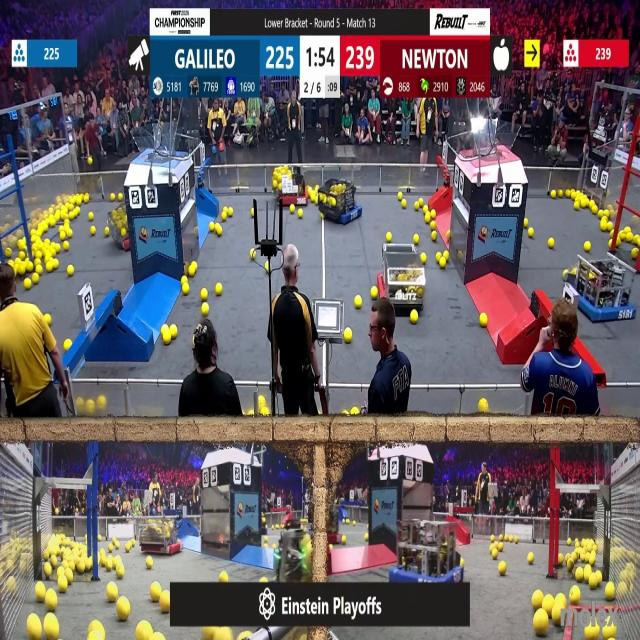ball_ground: (536, 612, 550, 638), (116, 598, 129, 621), (158, 590, 170, 611), (44, 592, 56, 612), (137, 623, 151, 640), (150, 584, 160, 603), (552, 607, 562, 626), (107, 585, 117, 603), (570, 588, 580, 605), (532, 593, 541, 609), (36, 586, 45, 602), (602, 628, 614, 640), (590, 574, 600, 588), (605, 586, 613, 602), (574, 568, 583, 582), (60, 579, 68, 594), (344, 330, 352, 344), (480, 398, 488, 412), (87, 398, 95, 412), (98, 396, 107, 408), (115, 566, 124, 578), (218, 571, 228, 581), (202, 304, 210, 316), (164, 334, 172, 346), (498, 562, 506, 574), (43, 564, 51, 576), (64, 340, 72, 352), (412, 311, 419, 324), (188, 264, 195, 277), (215, 283, 222, 295), (355, 295, 362, 307), (481, 314, 488, 326), (146, 557, 153, 569), (171, 325, 178, 337), (258, 395, 265, 407), (25, 279, 32, 290), (32, 274, 39, 285), (600, 219, 607, 230), (370, 286, 376, 298), (202, 288, 208, 300), (68, 266, 74, 278), (632, 248, 638, 260), (44, 314, 50, 326), (585, 242, 592, 252), (414, 235, 421, 245), (54, 261, 61, 271), (415, 201, 422, 211), (567, 188, 574, 198), (99, 557, 106, 567), (439, 260, 445, 271), (28, 263, 34, 274), (107, 559, 113, 570), (88, 559, 94, 570), (351, 408, 359, 416), (420, 253, 427, 262), (386, 233, 392, 243), (182, 284, 188, 294), (547, 238, 553, 248), (528, 553, 533, 565), (492, 550, 498, 560), (528, 229, 534, 239), (67, 230, 73, 240), (524, 218, 530, 228), (18, 266, 24, 276), (592, 205, 598, 215), (573, 201, 579, 211), (558, 555, 564, 565), (436, 252, 442, 262), (50, 246, 56, 256), (265, 410, 272, 418), (36, 266, 42, 275), (61, 232, 67, 241), (551, 189, 557, 198), (114, 540, 120, 549), (220, 212, 226, 221), (634, 235, 640, 244), (216, 225, 221, 235), (46, 264, 51, 274), (343, 538, 348, 548), (430, 210, 435, 220), (35, 257, 42, 264), (444, 251, 450, 259), (117, 192, 123, 200), (108, 543, 114, 551), (18, 252, 24, 260), (74, 208, 80, 216), (558, 189, 564, 197), (396, 191, 402, 199), (92, 225, 97, 234), (64, 242, 69, 251), (297, 209, 302, 218), (431, 233, 436, 242), (425, 214, 430, 223), (607, 240, 612, 249), (430, 221, 435, 230), (250, 249, 255, 258), (83, 196, 88, 205), (127, 543, 133, 550), (36, 251, 42, 258), (498, 534, 504, 541), (227, 208, 232, 216), (184, 276, 189, 284), (110, 192, 115, 200), (498, 542, 503, 550), (617, 239, 622, 247), (260, 576, 266, 582), (250, 208, 254, 217), (105, 226, 109, 235), (248, 411, 253, 418), (364, 533, 368, 541), (401, 201, 405, 209), (90, 212, 94, 220), (210, 222, 214, 230), (132, 538, 136, 546), (460, 559, 464, 567), (424, 206, 428, 214), (563, 271, 567, 279), (344, 412, 349, 418), (515, 536, 520, 542), (7, 259, 12, 265), (290, 206, 294, 213), (491, 535, 495, 542), (320, 214, 324, 221), (490, 543, 494, 550), (266, 536, 270, 542), (265, 542, 269, 548), (353, 521, 356, 527), (99, 535, 102, 541)
goal: (465, 121, 520, 159), (130, 130, 189, 160)
robot_blue: (393, 520, 463, 588), (575, 256, 634, 323), (319, 178, 362, 225)
robot_red: (380, 245, 424, 295), (140, 515, 183, 555), (274, 164, 308, 205), (105, 203, 132, 252)
